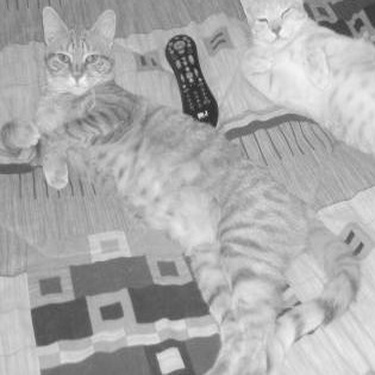cat: (5, 6, 357, 372)
